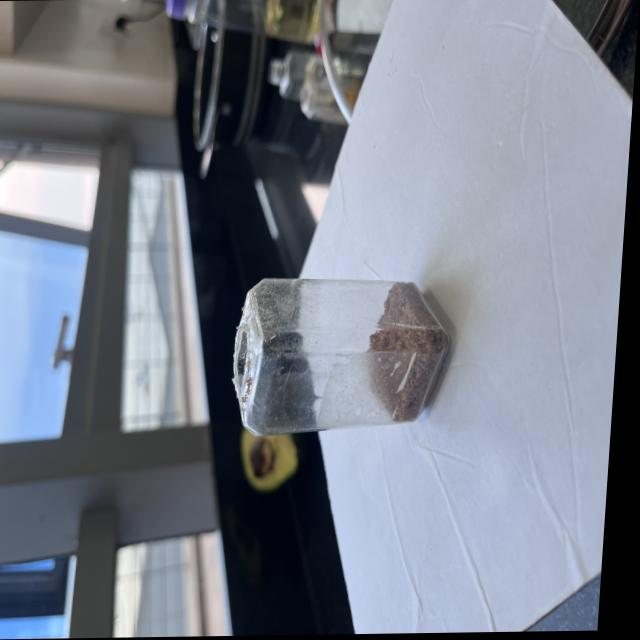maggie_open: (370, 285, 457, 422)
